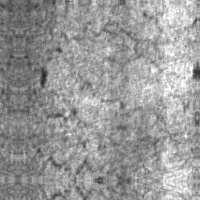crazing: (56, 7, 177, 77), (24, 88, 163, 133), (21, 139, 101, 177)
